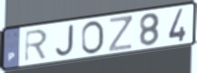4: (167, 6, 188, 44)
8: (138, 11, 161, 48)
J: (54, 23, 76, 58)
O: (80, 19, 106, 56)
R: (23, 28, 49, 64)
Z: (107, 14, 134, 53)
